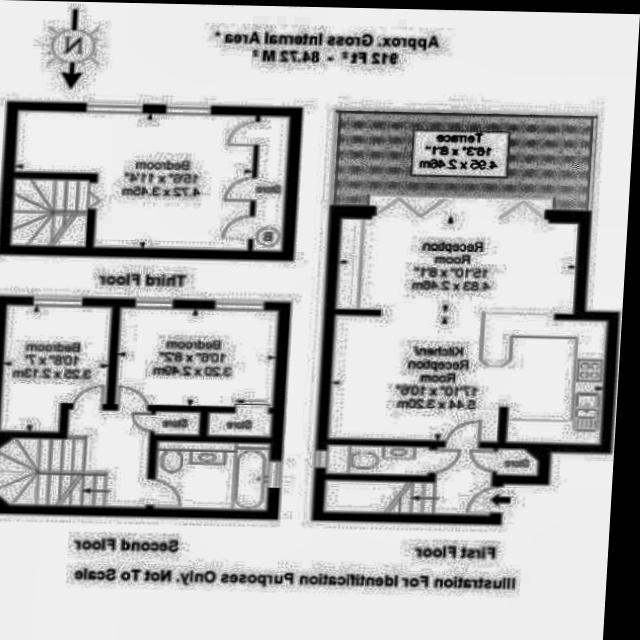room: (328, 217, 610, 445), (12, 110, 256, 252), (114, 307, 279, 408), (0, 300, 113, 438), (0, 408, 152, 509), (153, 441, 270, 511), (324, 480, 503, 516), (9, 178, 90, 248), (251, 114, 290, 253), (326, 445, 430, 476), (206, 412, 273, 438), (154, 410, 201, 436), (497, 449, 539, 476)
